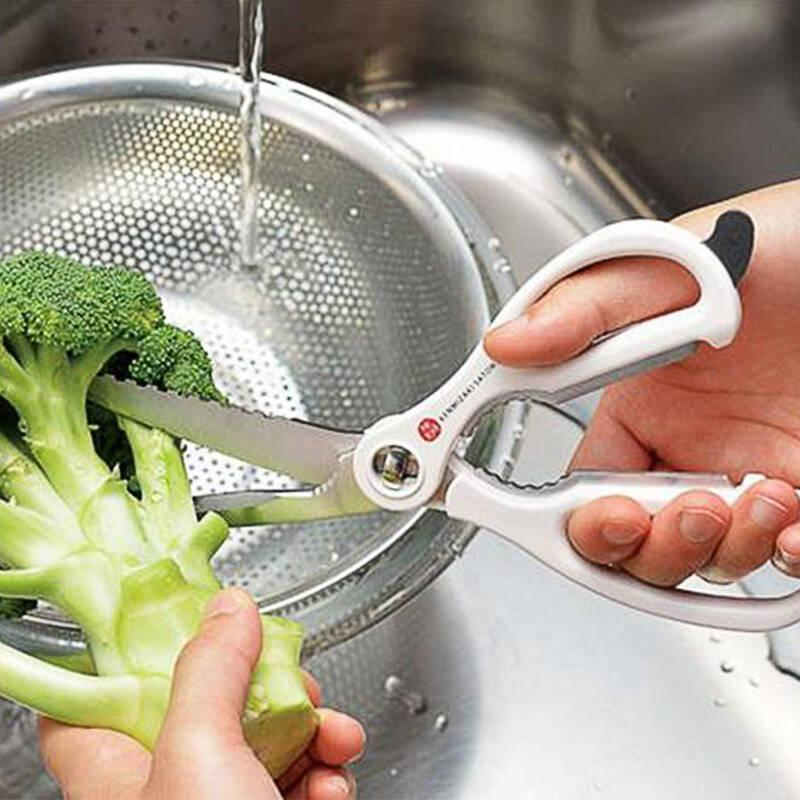scissor: (113, 259, 800, 642)
